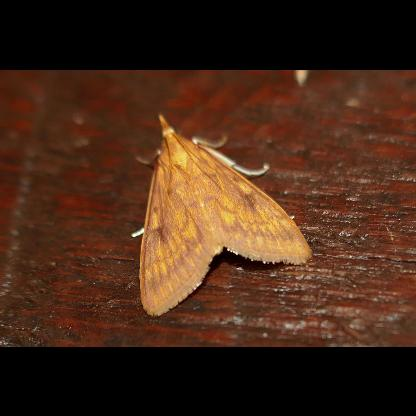Asian Corn Borer Moth: (128, 109, 314, 319)
